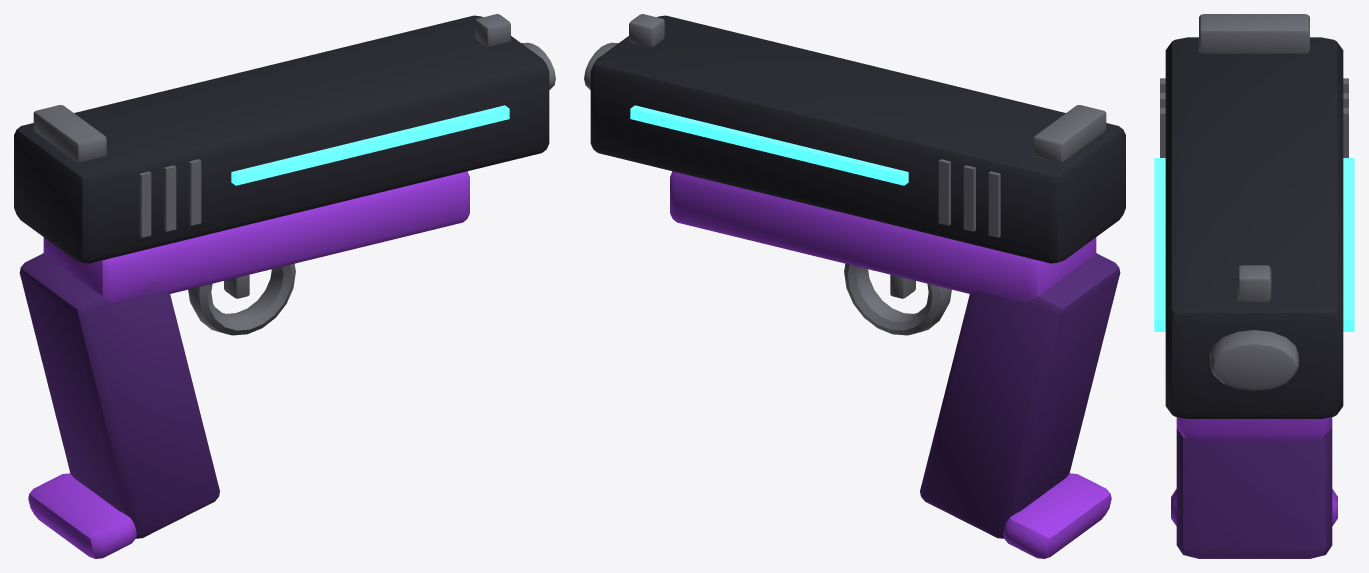
File: SGP_Pistol_Neon.glb
The picture shows the model from 3 angles, left to right: view 1: azimuth 30°, elevation 25°; view 2: azimuth 150°, elevation 25°; view 3: azimuth 270°, elevation 25°; orthographic projection. The views are drawn at different scales.
Visible parts, largest first — view 1: SGP_Pistol_Neon; view 2: SGP_Pistol_Neon; view 3: SGP_Pistol_Neon.
Part boxes in pixels (bbox=[...]): SGP_Pistol_Neon: bbox=[14, 14, 555, 558]; SGP_Pistol_Neon: bbox=[584, 14, 1125, 558]; SGP_Pistol_Neon: bbox=[1154, 14, 1354, 558].
Bounding box in the file's own units: 0.199 × 0.1593 × 0.0576.
